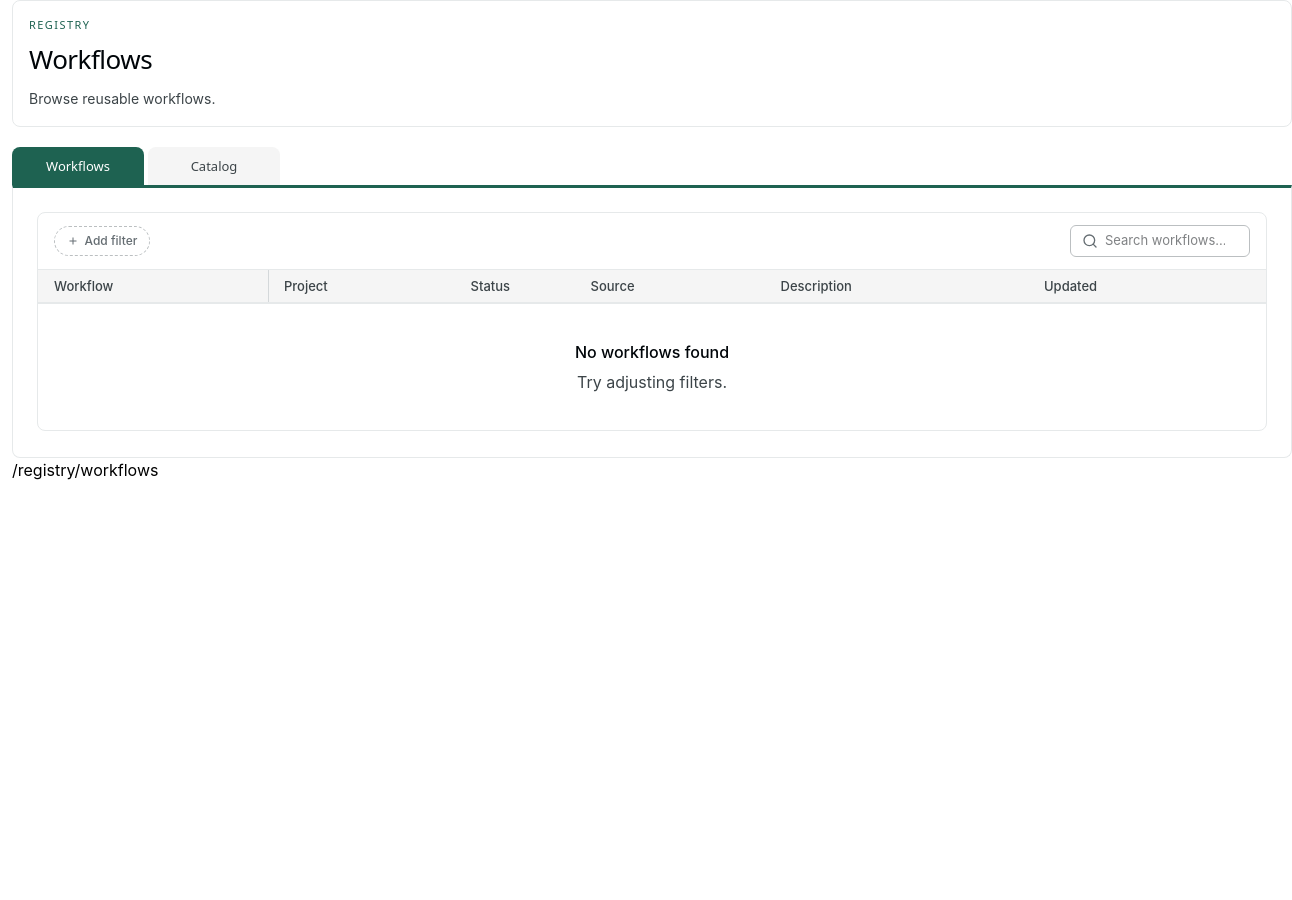
Test: an operator browses templates read-only
Expected: the button "Create workflow" is not shown
Click the tab "Catalog": (214, 166) [148,147,280,185]
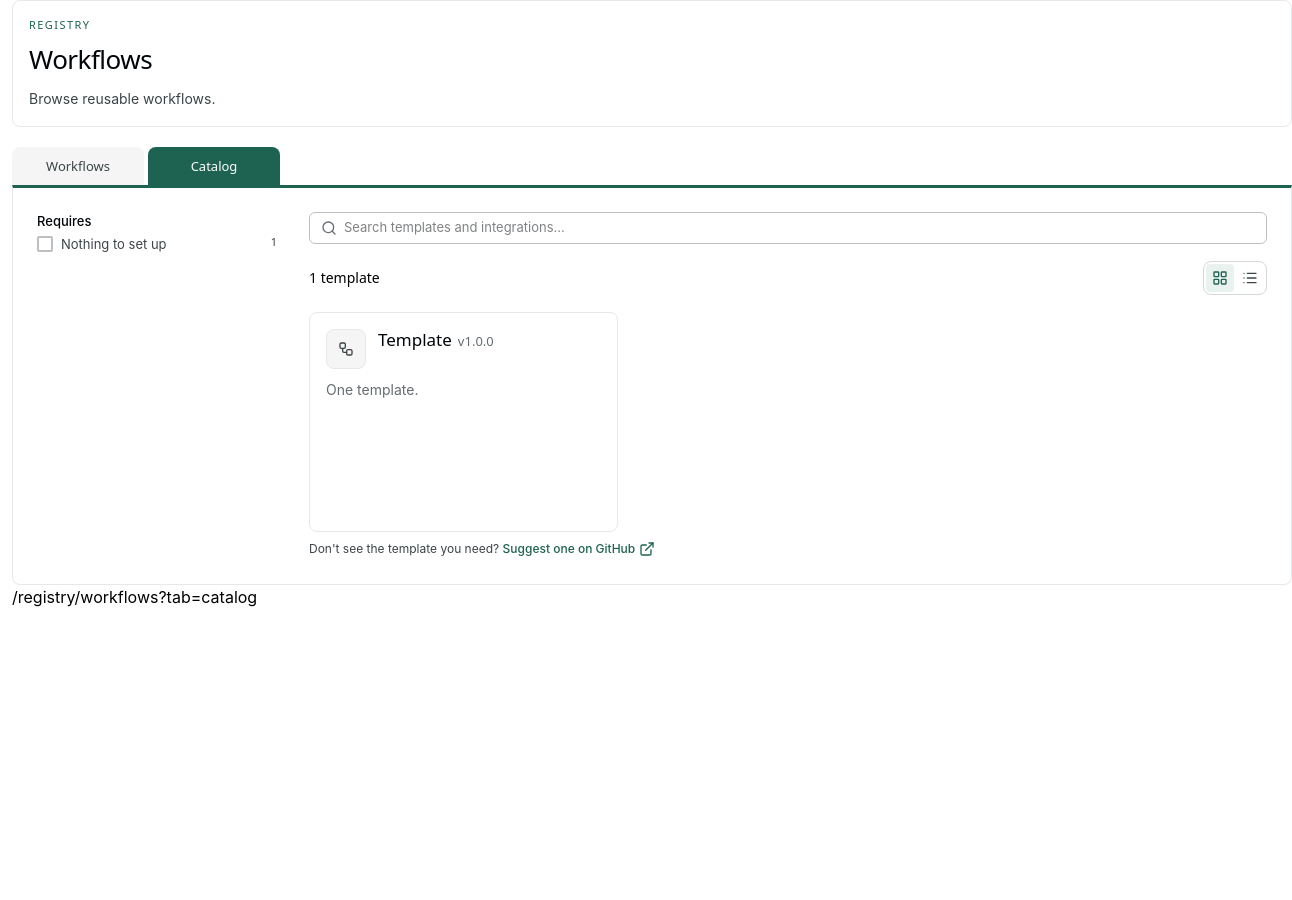
Click the button "Templatev1.0.0": (489, 340) [378,329,601,352]
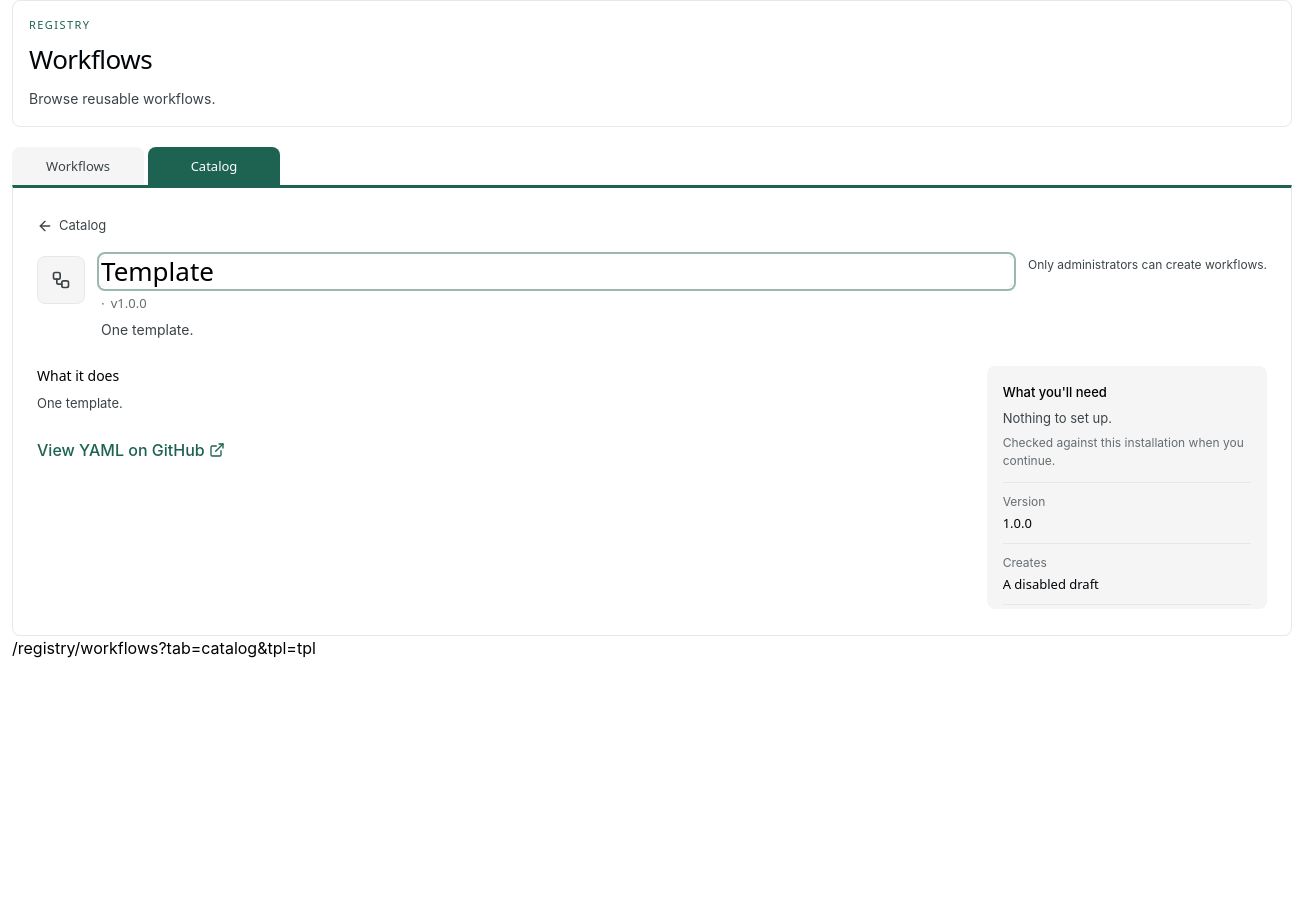
Expected: the text "Only administrators can create workflows." is shown, [1028,256,1267,273]
